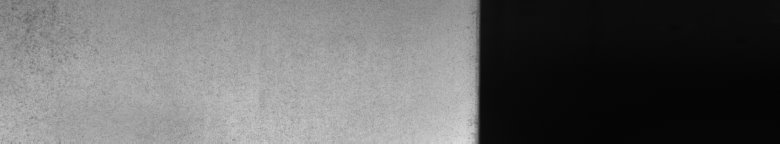ib: (12, 6, 78, 124)
